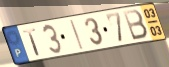3: (43, 23, 63, 55), (84, 17, 105, 47)
7: (104, 11, 125, 45)
B: (121, 8, 150, 42)
I: (68, 19, 85, 52)
T: (21, 26, 42, 57)
